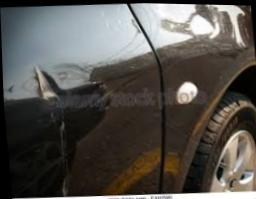Door: (15, 54, 133, 189)
